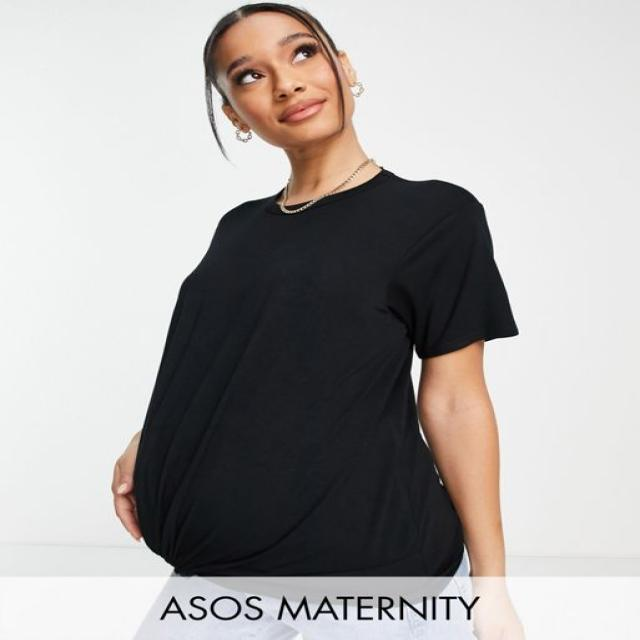tshirt: (130, 168, 518, 579)
